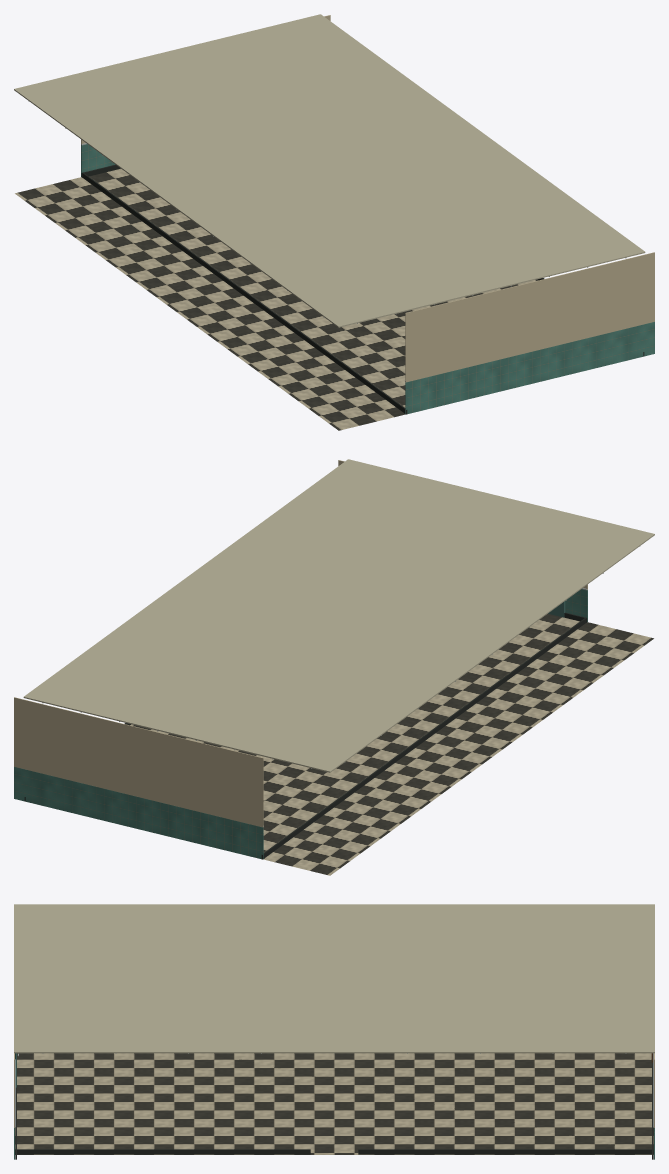
The model's file is SM_Mesa_Interior_LOD2.fbx.
The picture shows the model from 3 angles, top to bottom: view 1: azimuth 30°, elevation 25°; view 2: azimuth 150°, elevation 25°; view 3: azimuth 270°, elevation 25°; orthographic projection.
Parts seen in each view (by area): view 1: SM_Mesa_Interior_LOD2; view 2: SM_Mesa_Interior_LOD2; view 3: SM_Mesa_Interior_LOD2.
Boxes of the visible parts, x1,y1,x2,y2 form: SM_Mesa_Interior_LOD2: (14,14,654,430); SM_Mesa_Interior_LOD2: (14,459,654,875); SM_Mesa_Interior_LOD2: (14,904,654,1159).
Bounding box in the file's own units: 9.9 × 17.6 × 3.12.
